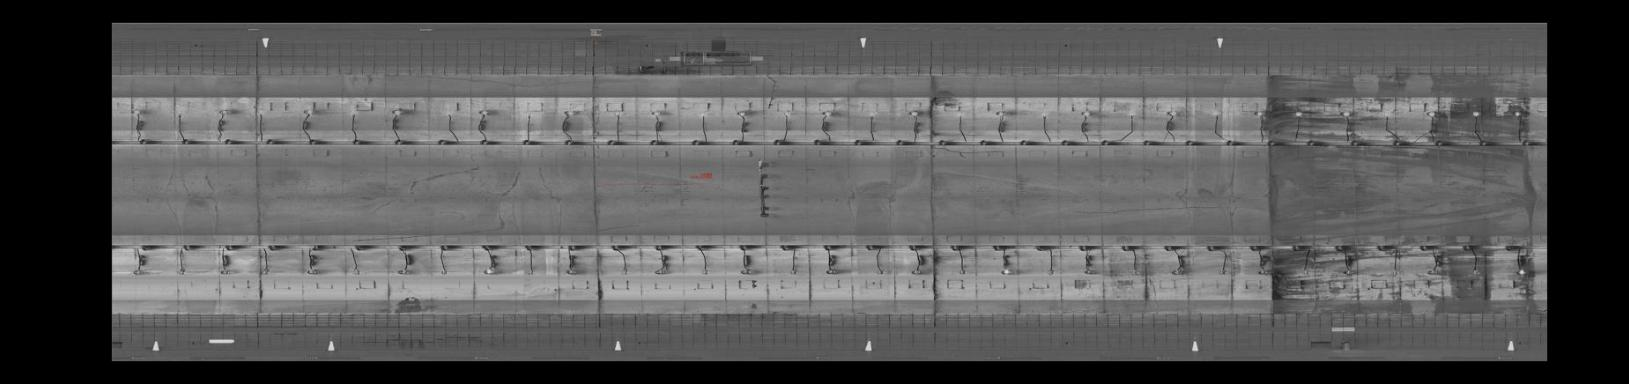light: (653, 265, 673, 279), (1421, 105, 1439, 120), (297, 104, 314, 119), (474, 105, 491, 119), (1254, 266, 1274, 278), (386, 104, 403, 118), (518, 107, 536, 120), (1378, 107, 1395, 120), (735, 266, 755, 277), (1160, 107, 1179, 119), (1510, 266, 1528, 278), (1338, 266, 1357, 278), (1170, 266, 1189, 278), (607, 108, 626, 119), (698, 266, 715, 279), (1385, 266, 1403, 278), (785, 266, 803, 278), (1464, 266, 1485, 276), (556, 107, 575, 118), (1335, 108, 1354, 119), (480, 266, 499, 277), (394, 266, 412, 277), (1079, 106, 1095, 119), (619, 265, 635, 278), (344, 106, 360, 118), (954, 266, 970, 278), (130, 266, 146, 278), (644, 107, 664, 117), (214, 105, 229, 118), (1468, 106, 1483, 119), (258, 265, 272, 278), (903, 108, 922, 118), (1080, 266, 1096, 278), (173, 266, 189, 278), (731, 108, 749, 118), (1424, 266, 1442, 276), (347, 266, 365, 276), (252, 107, 266, 120), (693, 108, 707, 120), (952, 107, 967, 118), (1206, 106, 1222, 117), (1251, 108, 1266, 119), (1510, 108, 1525, 119), (216, 266, 232, 277), (822, 266, 838, 276), (1128, 266, 1141, 279), (439, 107, 454, 118), (1299, 267, 1313, 278), (1044, 266, 1059, 277), (304, 266, 319, 277), (816, 109, 835, 117), (562, 266, 578, 276), (436, 266, 452, 276), (173, 107, 186, 119), (1216, 268, 1232, 277), (523, 267, 539, 276), (128, 107, 142, 117), (999, 267, 1014, 277), (873, 269, 888, 278), (1123, 108, 1137, 118), (908, 266, 922, 276), (1037, 110, 1051, 119), (1289, 110, 1305, 118), (993, 108, 1007, 117), (780, 107, 791, 118), (864, 110, 876, 119)
